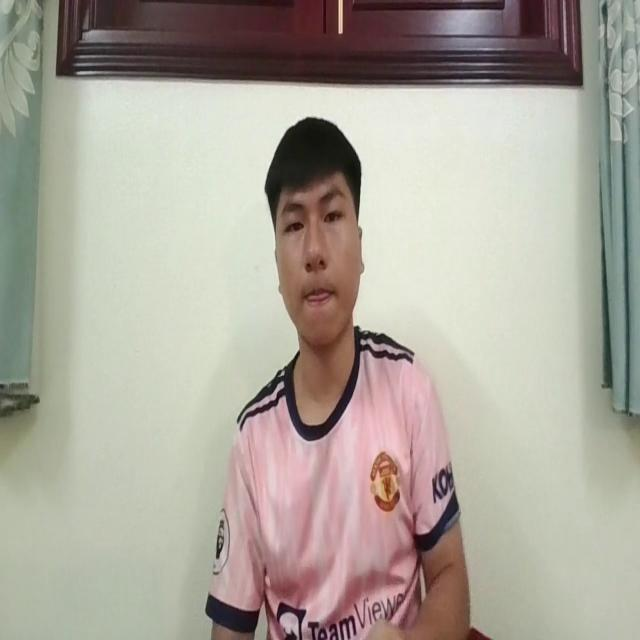student: (206, 112, 467, 640)
